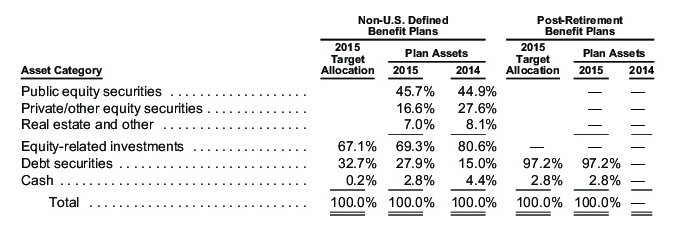table: (0, 0, 676, 234)
